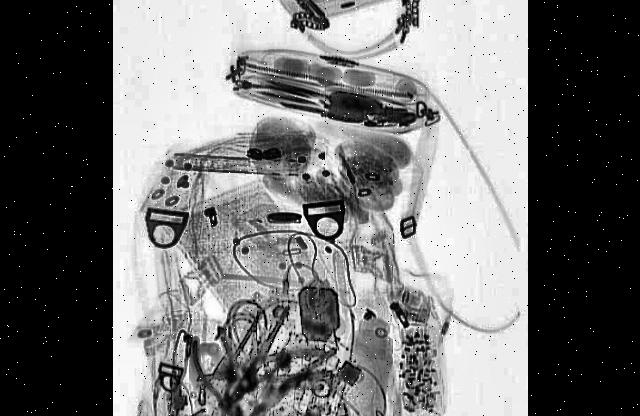Pliers: (207, 281, 334, 416), (185, 320, 252, 416)
